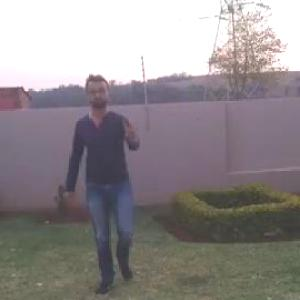takeoff-hand: (120, 118, 151, 151)
